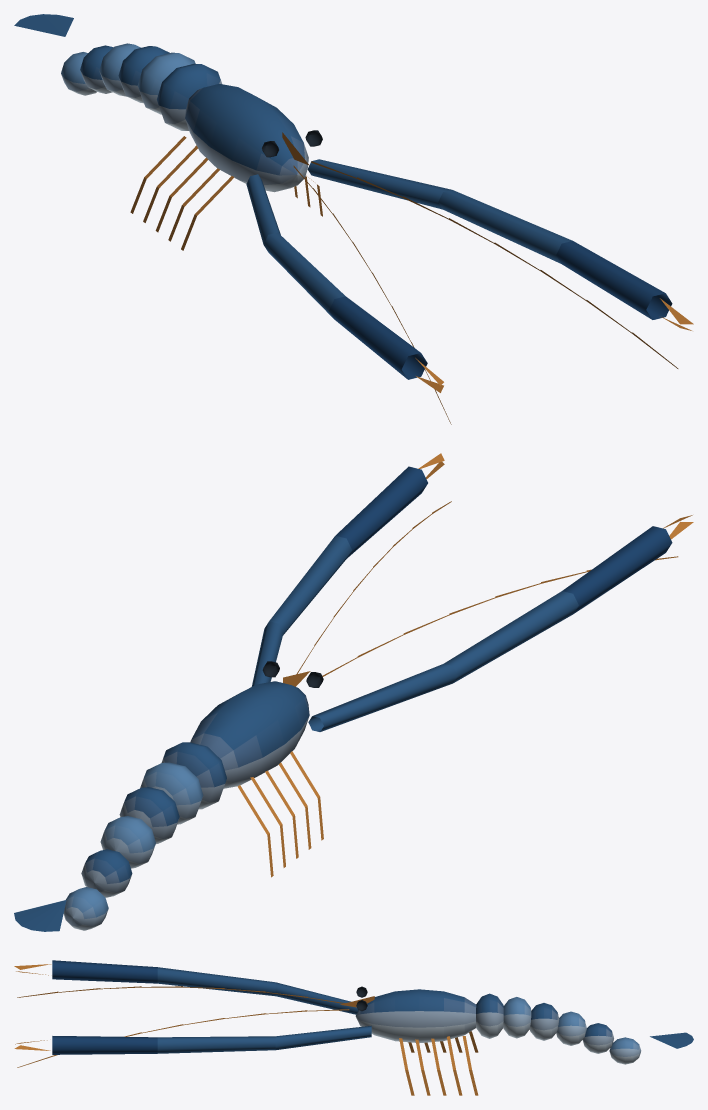
File: udang_galah.fbx
3 renders of one model, top to bottom at view 1: azimuth 30°, elevation 25°; view 2: azimuth 150°, elevation 25°; view 3: azimuth 270°, elevation 25°, orthographic. The views are drawn at different scales.
Parts seen in each view (by area): view 1: udang_galah; view 2: udang_galah; view 3: udang_galah.
Part boxes in pixels (left/top/right/bottom): udang_galah: left=14, top=14, right=693, bottom=424; udang_galah: left=14, top=453, right=693, bottom=931; udang_galah: left=14, top=960, right=693, bottom=1095.
Bounding box in the file's own units: 0.62 × 0.2808 × 2.13.
